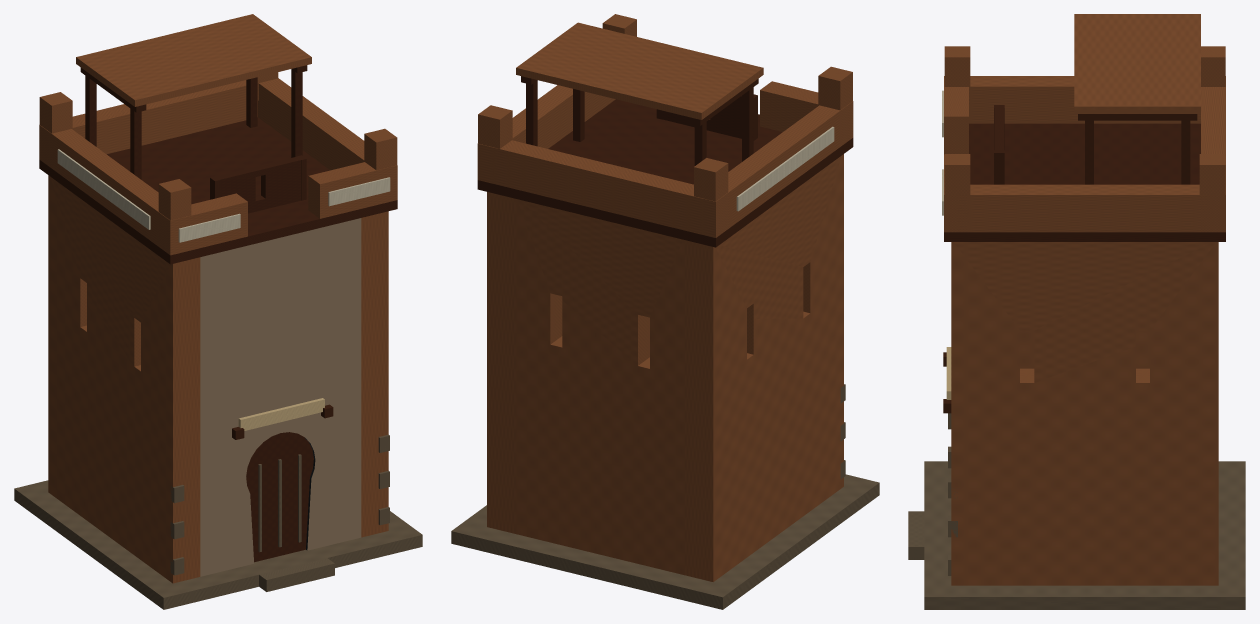
The model's file is Berber_Outpost_Age2_arrowslits.fbx.
3 renders of one model, left to right at view 1: azimuth 30°, elevation 25°; view 2: azimuth 150°, elevation 25°; view 3: azimuth 270°, elevation 25°, orthographic. The views are drawn at different scales.
Parts seen in each view (by area): view 1: west_thick_wall, south_thick_wall, lookout_floor, fitted_flat_canopy, tower_foundation, east_thick_wall, lookout_parapet_back, horseshoe_door, lookout_parapet_side.001, lookout_parapet_side, arrow_shield_panel, lookout_parapet_front.001 (+13 smaller); view 2: north_thick_wall, west_thick_wall, fitted_flat_canopy, tower_foundation, lookout_floor, lookout_parapet_back, east_thick_wall, lookout_parapet_side, lookout_parapet_side.001, lookout_parapet_front, neutral_owner_side_band, corner_merlon.003 (+6 smaller); view 3: east_thick_wall, lookout_floor, tower_foundation, fitted_flat_canopy, lookout_parapet_side.001, lookout_parapet_side, lookout_parapet_back, lookout_parapet_front, corner_merlon, west_thick_wall, corner_merlon.002, corner_merlon.003 (+7 smaller).
Boxes of the visible parts, <box> form: west_thick_wall: <box>48,175,200,583</box>; south_thick_wall: <box>200,218,361,576</box>; lookout_floor: <box>39,117,397,264</box>; fitted_flat_canopy: <box>76,14,311,106</box>; tower_foundation: <box>14,480,422,609</box>; east_thick_wall: <box>361,211,388,537</box>; lookout_parapet_back: <box>39,80,257,167</box>; horseshoe_door: <box>246,432,313,562</box>; lookout_parapet_side.001: <box>258,78,364,170</box>; lookout_parapet_side: <box>51,129,164,250</box>; arrow_shield_panel: <box>215,156,300,213</box>; lookout_parapet_front.001: <box>308,162,397,218</box>; north_thick_wall: <box>515,199,684,575</box>; west_thick_wall: <box>684,154,843,581</box>; fitted_flat_canopy: <box>516,22,763,119</box>; tower_foundation: <box>451,474,879,609</box>; lookout_floor: <box>477,99,853,247</box>; lookout_parapet_back: <box>477,140,727,237</box>; east_thick_wall: <box>487,192,515,533</box>; lookout_parapet_side: <box>728,105,846,228</box>; lookout_parapet_side.001: <box>512,85,615,148</box>; lookout_parapet_front: <box>760,81,853,145</box>; neutral_owner_side_band: <box>736,126,834,211</box>; corner_merlon.003: <box>478,105,512,148</box>; east_thick_wall: <box>951,242,1218,585</box>; lookout_floor: <box>944,123,1225,241</box>; tower_foundation: <box>924,461,1245,609</box>; fitted_flat_canopy: <box>1074,14,1200,113</box>; lookout_parapet_side.001: <box>956,184,1213,232</box>; lookout_parapet_side: <box>969,76,1200,123</box>; lookout_parapet_back: <box>1201,76,1225,232</box>; lookout_parapet_front: <box>944,76,968,153</box>; corner_merlon: <box>944,46,970,105</box>; west_thick_wall: <box>1020,330,1149,368</box>; corner_merlon.002: <box>944,154,970,194</box>; corner_merlon.003: <box>1199,154,1225,194</box>.
Bounding box in the file's own units: 360 × 596 × 378.
5 materials, 5 textured.
